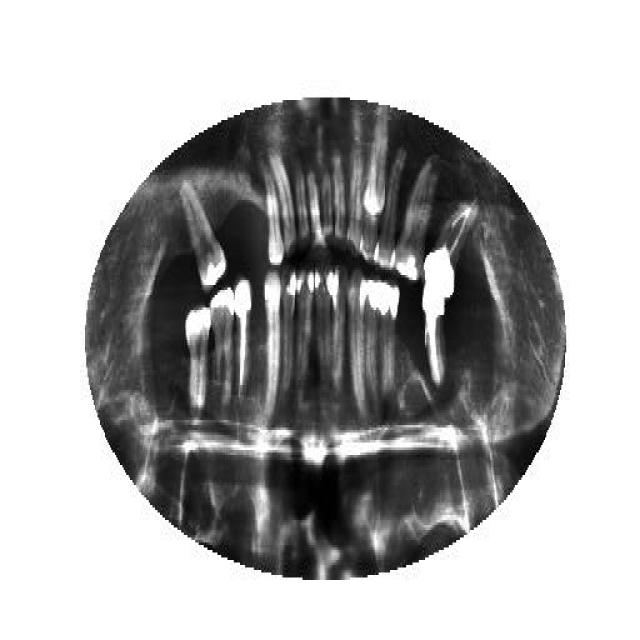Fillings: (178, 160, 230, 290), (392, 150, 443, 282), (210, 282, 235, 418), (376, 285, 400, 395), (296, 265, 316, 395), (280, 270, 300, 398), (362, 278, 380, 402)
Implant: (425, 202, 477, 298), (235, 275, 254, 407), (424, 295, 445, 385)
